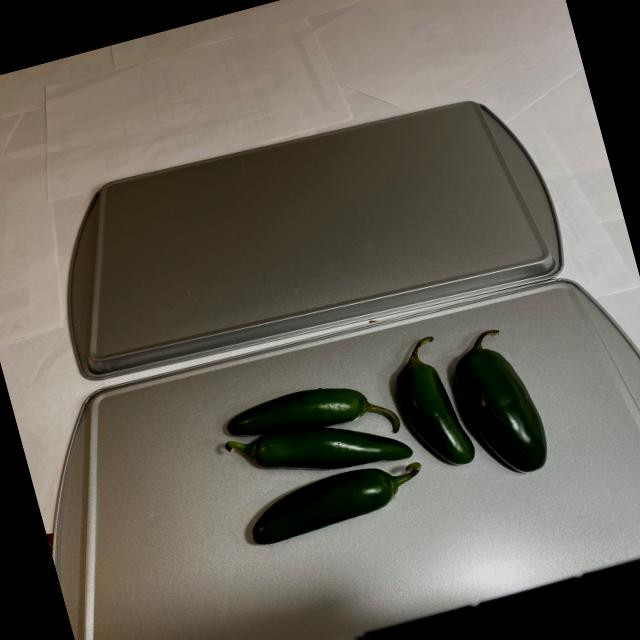chilli: (188, 312, 568, 556)
